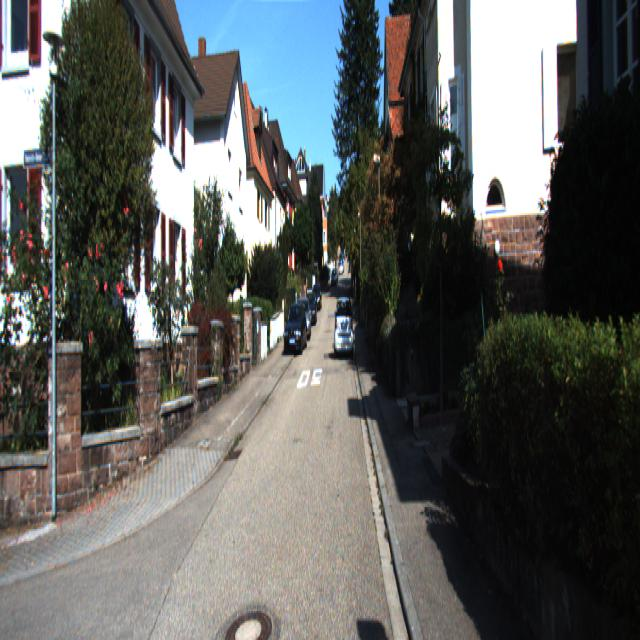Car: (282, 302, 309, 355), (334, 293, 354, 359)
